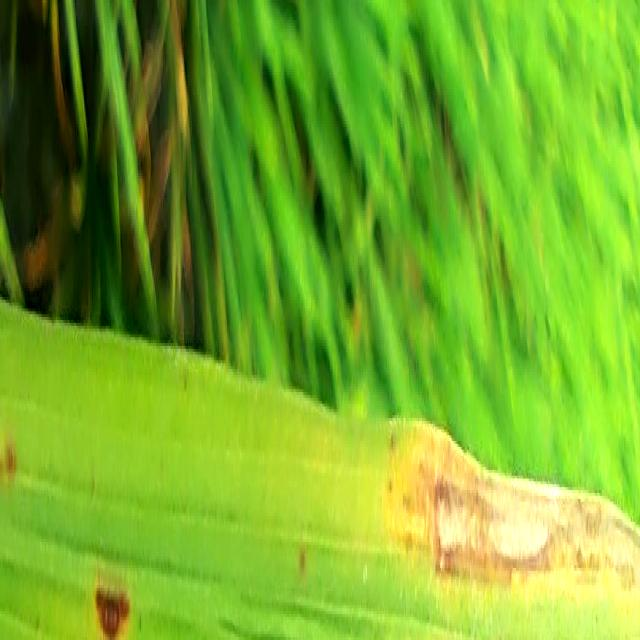LEAF BLAST: (432, 468, 639, 594), (96, 588, 129, 640)
